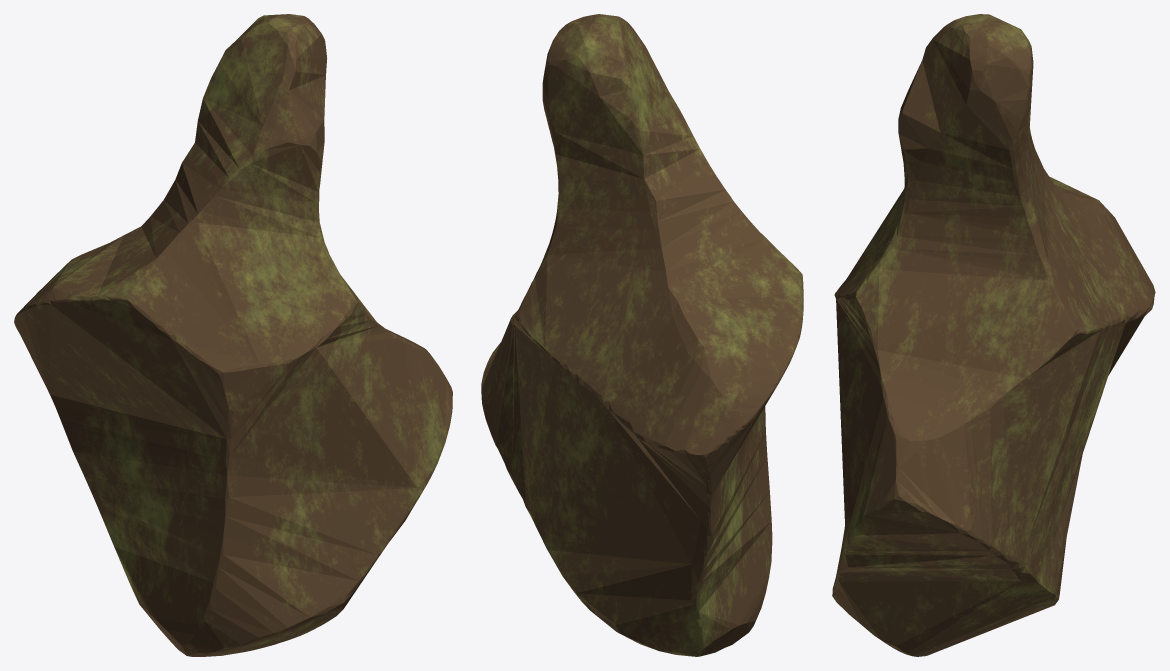
Rendered from Rock8.fbx.
The picture shows the model from 3 angles, left to right: view 1: azimuth 30°, elevation 25°; view 2: azimuth 150°, elevation 25°; view 3: azimuth 270°, elevation 25°; orthographic projection. The views are drawn at different scales.
Visible parts, largest first — view 1: Rock1; view 2: Rock1; view 3: Rock1.
Boxes of the visible parts, x1,y1,x2,y2 form: Rock1: (14, 14, 452, 656); Rock1: (481, 14, 803, 656); Rock1: (832, 14, 1155, 656).
Bounding box in the file's own units: 131 × 214 × 95.55.
Materials: 1 (1 with a texture image).
